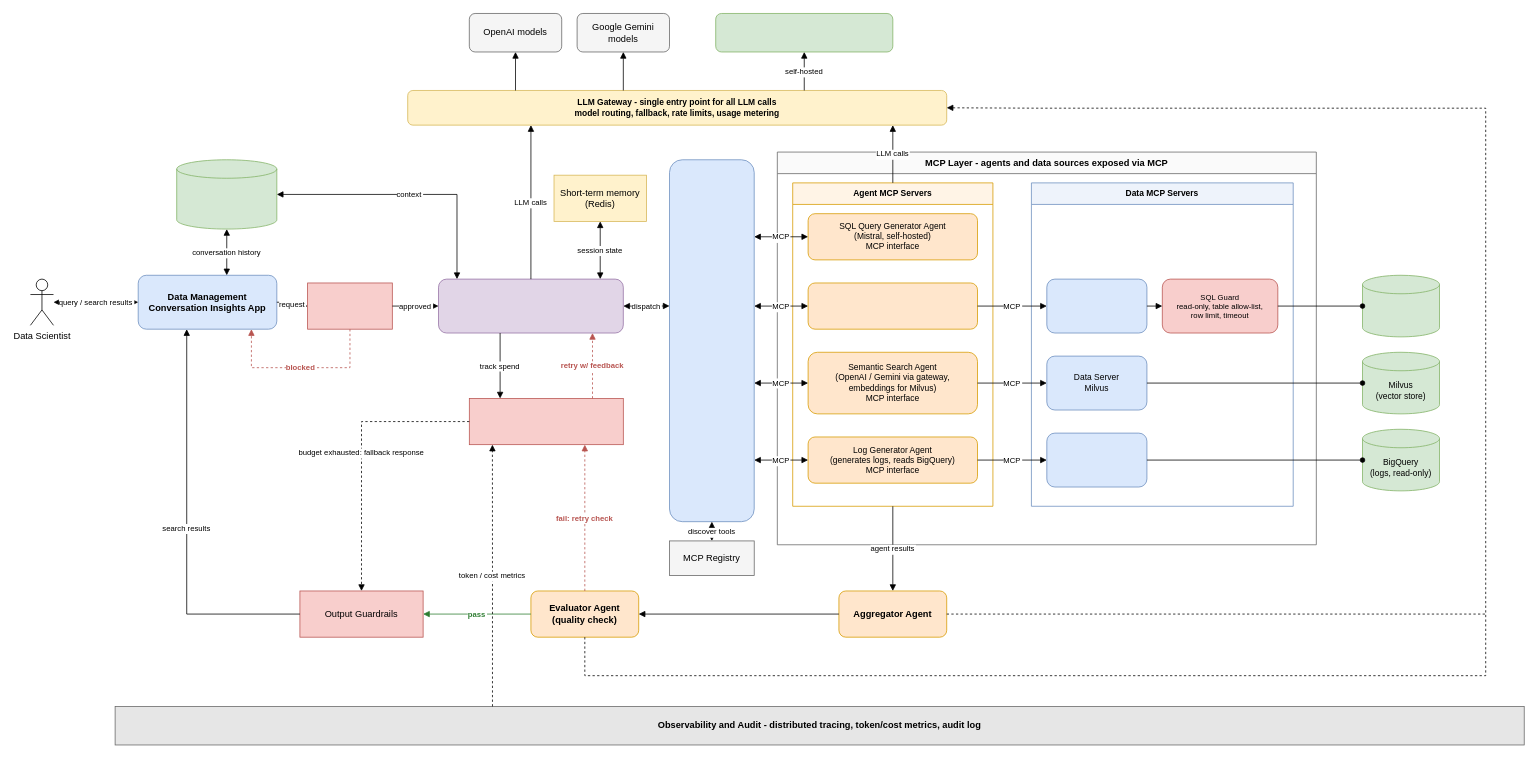
Image size: 1538x758. Some labels were removed from this diagram. The centre of each missing label's shape, as x and y in pixels:
Agent Orchestrator: (530,305)
Budget Manager Node (token / cost / retry limits): (546,421)
Data Server Postgres: (1096,305)
Input Guardrails: (349,305)
Log Viewer Server (BigQuery): (1096,459)
MCP Gateway: (711,340)
Mistral models (self-hosted): (804,32)
MongoDB Long-term memory (Conversation History): (226,194)
Postgres (read-only user): (1401,306)
SQL Query Executor Agent (Mistral, self-hosted) MCP interface: (892,305)
